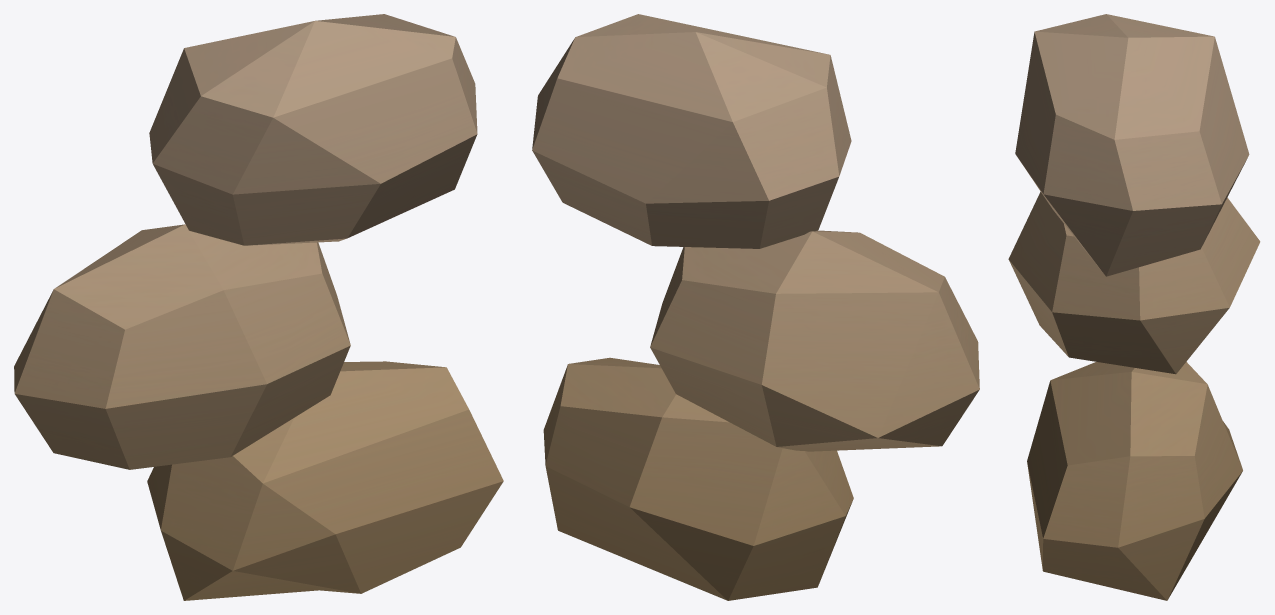
The model's file is SobbleStoneWall_Half_01.fbx.
3 views of the same model, side by side, from view 1: azimuth 30°, elevation 25°; view 2: azimuth 150°, elevation 25°; view 3: azimuth 270°, elevation 25° (orthographic). The views are drawn at different scales.
Parts seen in each view (by area): view 1: SobbleStoneWall_Half_01; view 2: SobbleStoneWall_Half_01; view 3: SobbleStoneWall_Half_01.
Boxes of the visible parts, x1=… form: SobbleStoneWall_Half_01: x1=14, y1=14, x2=503, y2=600; SobbleStoneWall_Half_01: x1=532, y1=14, x2=979, y2=600; SobbleStoneWall_Half_01: x1=1008, y1=14, x2=1260, y2=600.
Size of the model in its own units: 118 by 139 by 59.15.
